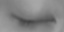LeftEyeFatigue: (7, 6, 62, 32)
